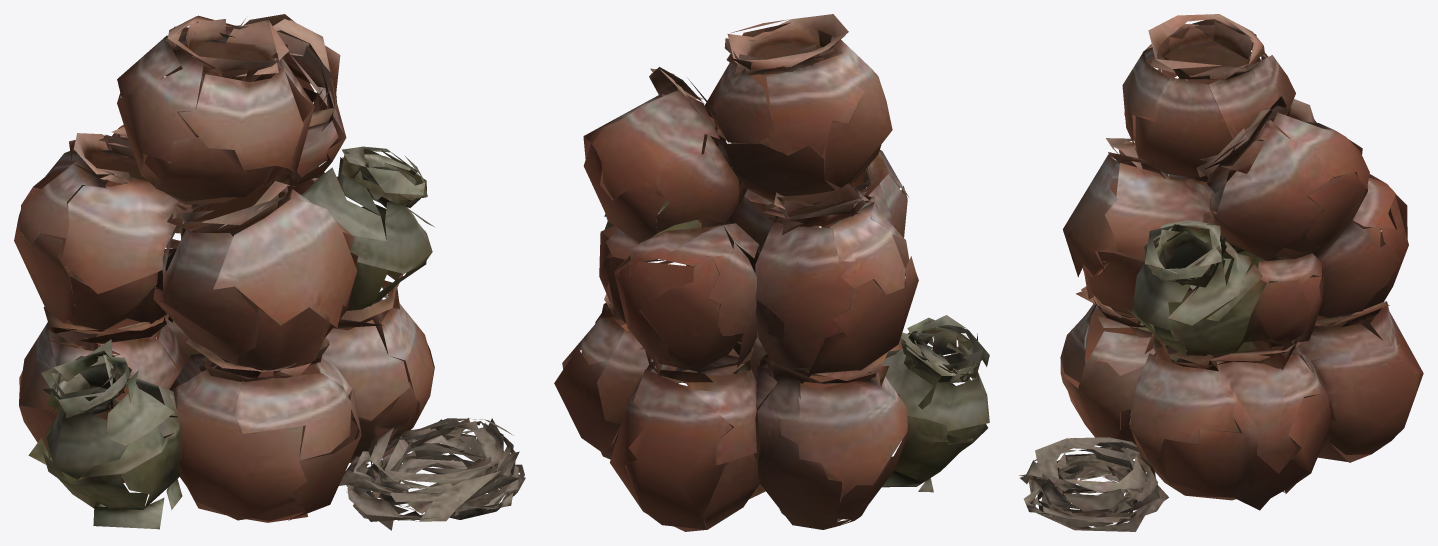
Rendered from pots.glb.
The picture shows the model from 3 angles, left to right: view 1: azimuth 30°, elevation 25°; view 2: azimuth 150°, elevation 25°; view 3: azimuth 270°, elevation 25°; orthographic projection. The views are drawn at different scales.
Parts seen in each view (by area): view 1: pots; view 2: pots; view 3: pots.
Part boxes in pixels (bbox=[...]): pots: bbox=[14, 14, 525, 530]; pots: bbox=[554, 14, 989, 531]; pots: bbox=[1019, 14, 1423, 531].
Bounding box in the file's own units: 0.3433 × 0.3581 × 0.3185.
Materials: 1 (1 with a texture image).
